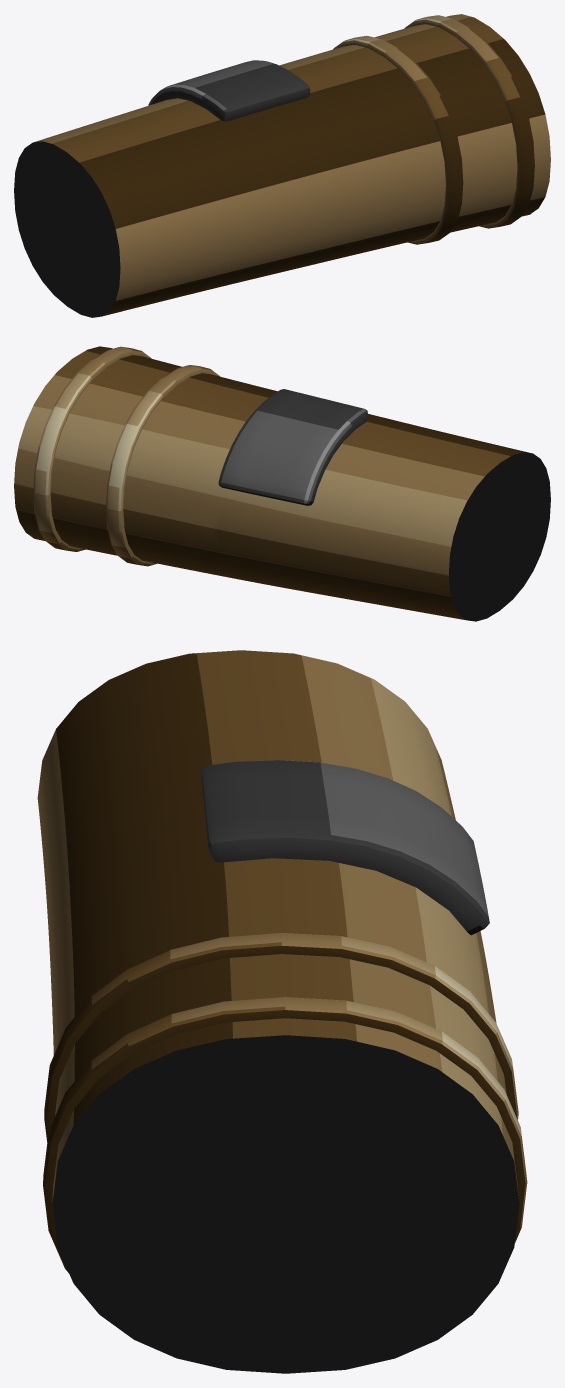
Rendered from tusk_arm_b_267.glb.
3 views of the same model, one above another, from view 1: azimuth 30°, elevation 25°; view 2: azimuth 150°, elevation 25°; view 3: azimuth 270°, elevation 25° (orthographic). The views are drawn at different scales.
Visible parts, largest first — view 1: tusk_arm_b_267; view 2: tusk_arm_b_267; view 3: tusk_arm_b_267.
Boxes of the visible parts, x1,y1,x2,y2 form: tusk_arm_b_267: [14, 14, 550, 317]; tusk_arm_b_267: [14, 346, 550, 621]; tusk_arm_b_267: [37, 650, 527, 1373].
Bounding box in the file's own units: 24 × 9.87 × 12.22.
